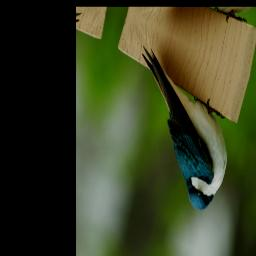Swallow: (114, 43, 244, 220)
